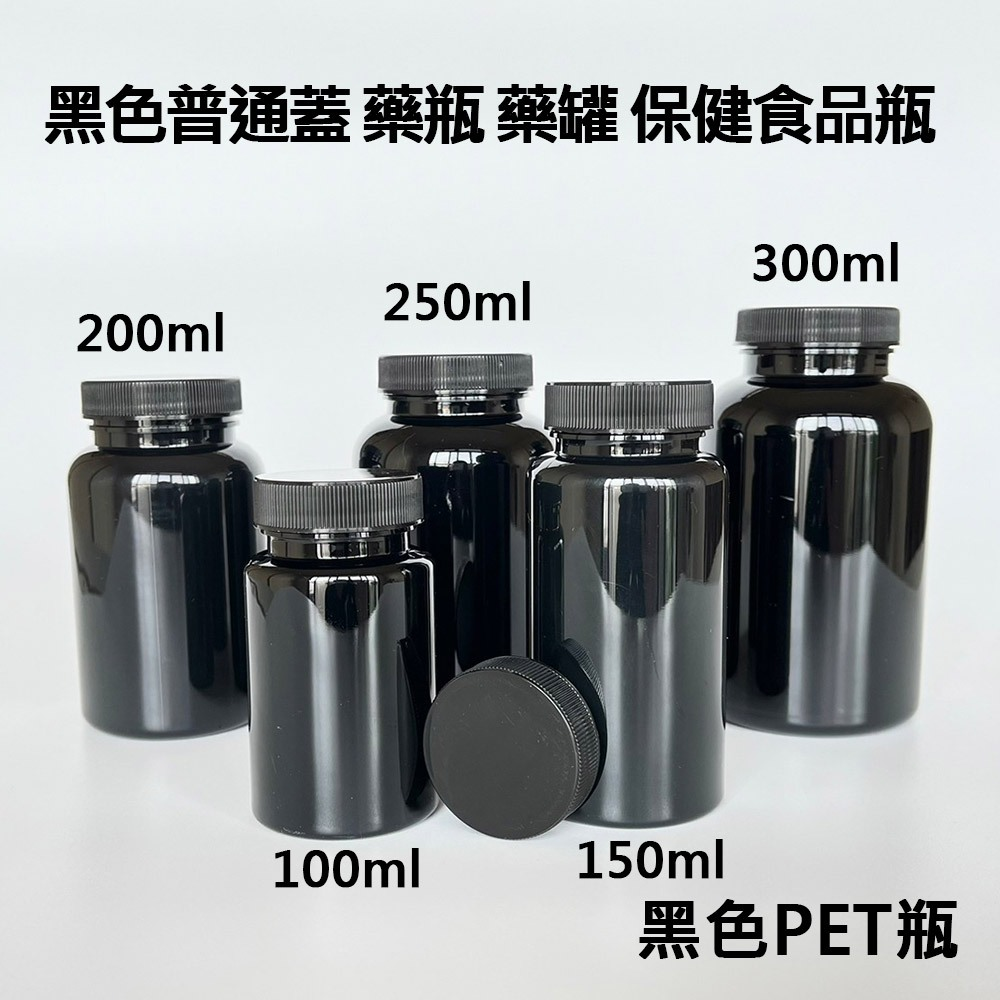medicinejar: (712, 303, 934, 745), (541, 367, 737, 845), (357, 333, 561, 738), (64, 378, 269, 748), (246, 472, 447, 845)
